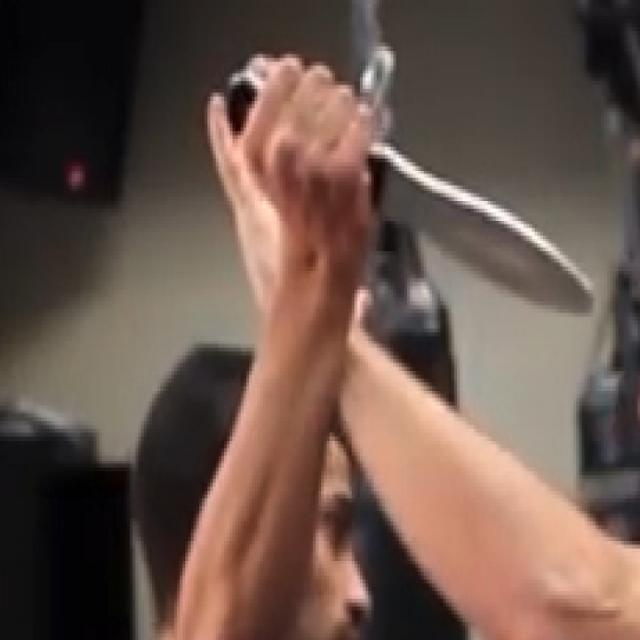suspicion: (164, 47, 602, 636), (373, 138, 598, 318)
